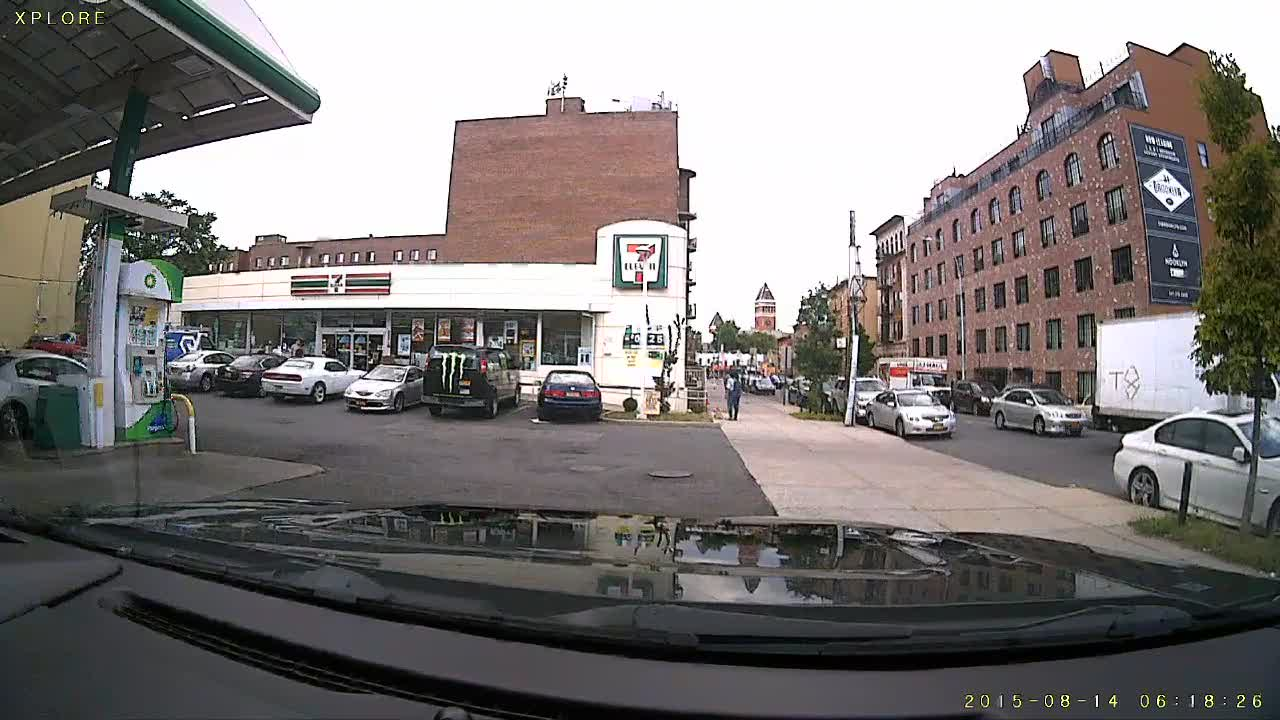car: (1112, 405, 1279, 535), (2, 345, 130, 435), (421, 338, 527, 415), (989, 383, 1085, 440), (260, 355, 365, 404), (866, 386, 957, 439), (341, 365, 431, 412), (535, 365, 602, 420), (216, 351, 290, 397), (166, 344, 236, 390), (820, 374, 891, 413), (954, 378, 1002, 416), (1073, 391, 1111, 428), (785, 373, 813, 406), (925, 383, 955, 410), (748, 373, 776, 394)
person: (720, 369, 742, 422)
truck: (1088, 312, 1279, 424)
